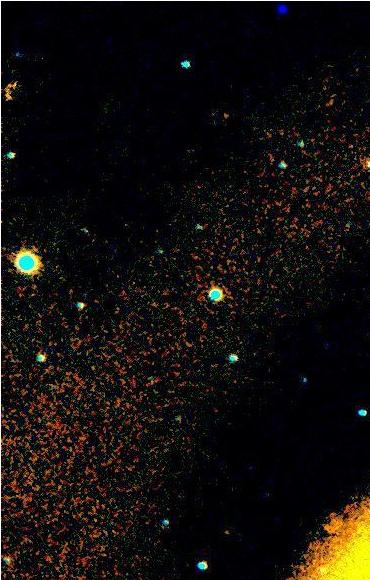star: (210, 516, 240, 546)
